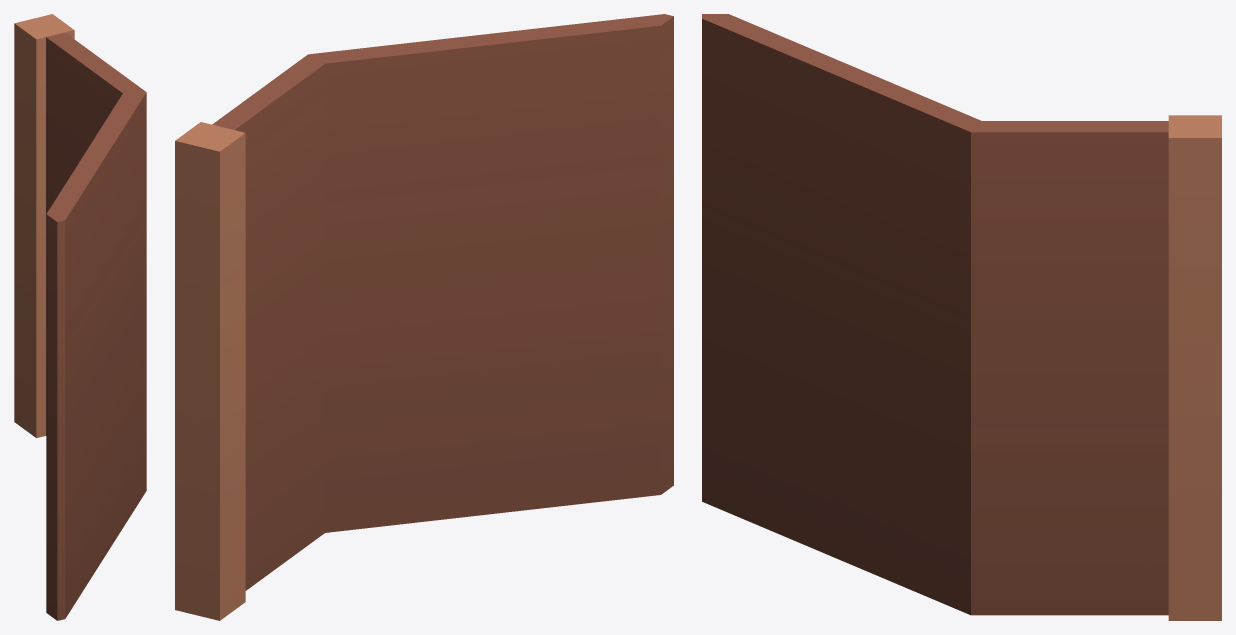
Rendered from wall-wood-corner-diagonal-half.glb.
3 renders of one model, left to right at view 1: azimuth 30°, elevation 25°; view 2: azimuth 150°, elevation 25°; view 3: azimuth 270°, elevation 25°, orthographic. The views are drawn at different scales.
Visible parts, largest first — view 1: wall-wood-corner-diagonal-half; view 2: wall-wood-corner-diagonal-half; view 3: wall-wood-corner-diagonal-half.
Part boxes in pixels (left/top/right/bottom): wall-wood-corner-diagonal-half: left=14, top=14, right=146, bottom=620; wall-wood-corner-diagonal-half: left=175, top=14, right=673, bottom=620; wall-wood-corner-diagonal-half: left=702, top=14, right=1221, bottom=620.
Bounding box in the file's own units: 0.55 × 1 × 0.975.
Materials: 1 (1 with a texture image).
